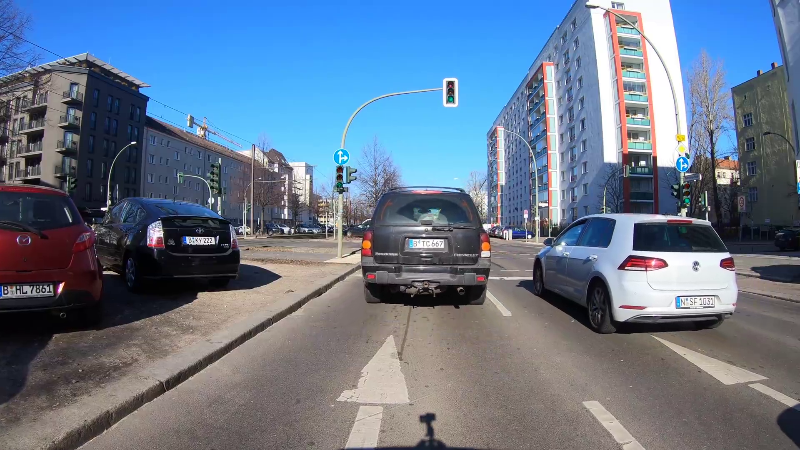Plate: (1, 281, 56, 298), (676, 296, 719, 308), (407, 238, 444, 250), (183, 234, 215, 244)
